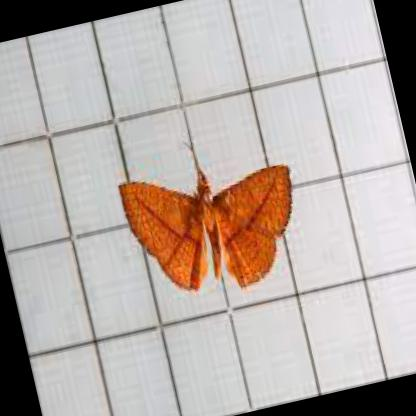Leaf Webber: (118, 166, 297, 295)
